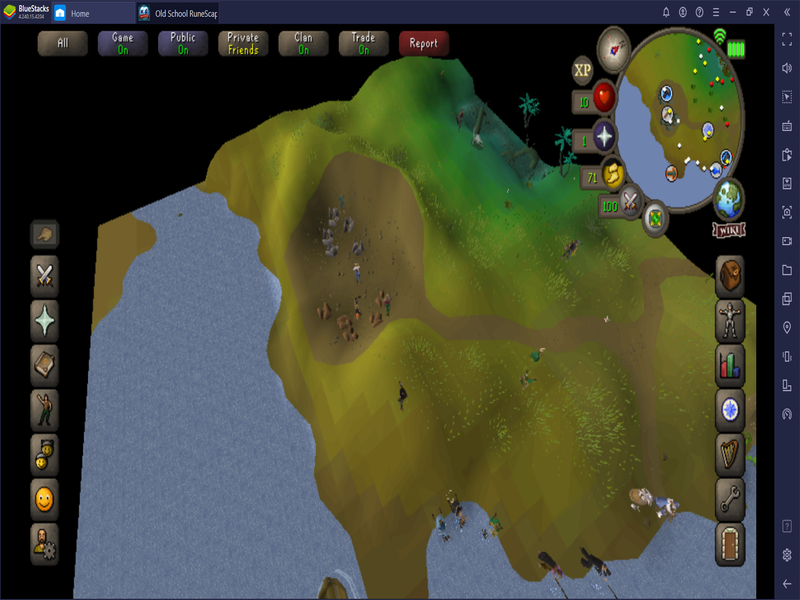copper_rock_1: (372, 288, 392, 309)
copper_rock_2: (366, 309, 386, 328)
